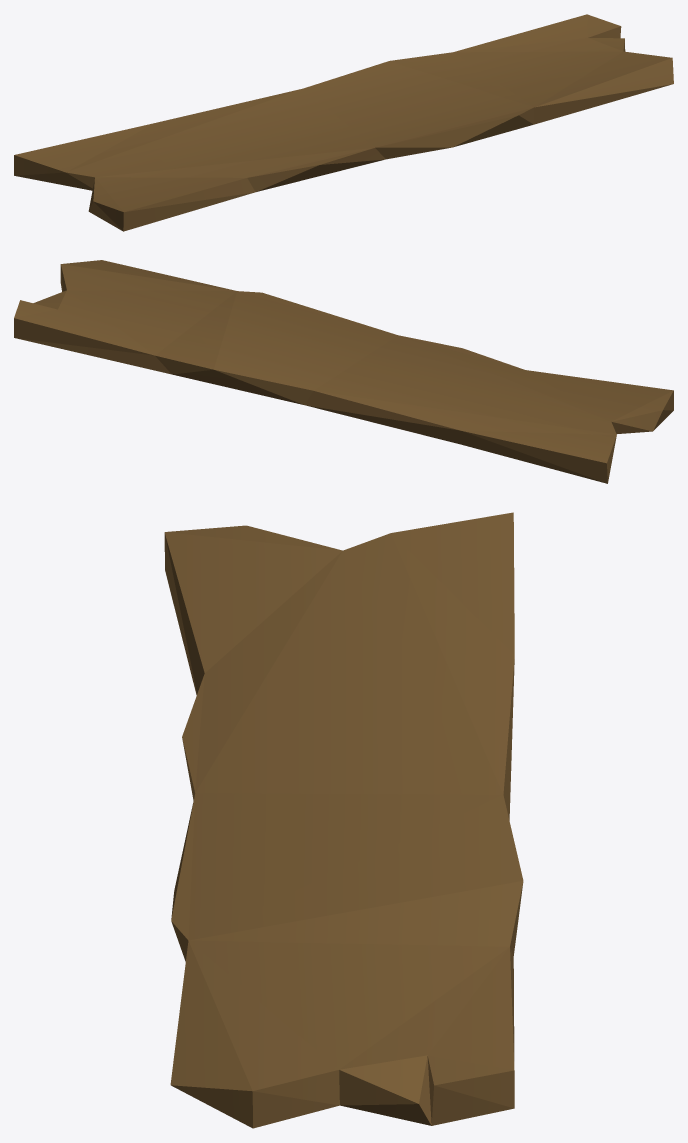
The model's file is Board_09.fbx.
3 renders of one model, top to bottom at view 1: azimuth 30°, elevation 25°; view 2: azimuth 150°, elevation 25°; view 3: azimuth 270°, elevation 25°, orthographic. The views are drawn at different scales.
Parts seen in each view (by area): view 1: Board_09; view 2: Board_09; view 3: Board_09.
Boxes of the visible parts, x1,y1,x2,y2 form: Board_09: (14, 14, 673, 231); Board_09: (14, 260, 673, 483); Board_09: (164, 512, 523, 1128).
Bounding box in the file's own units: 1.03 × 0.0371 × 0.2701.
